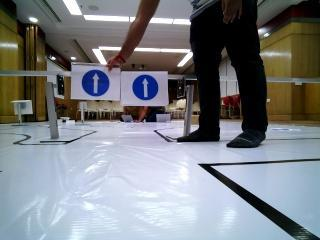straight: (70, 63, 117, 98), (120, 72, 170, 103)
